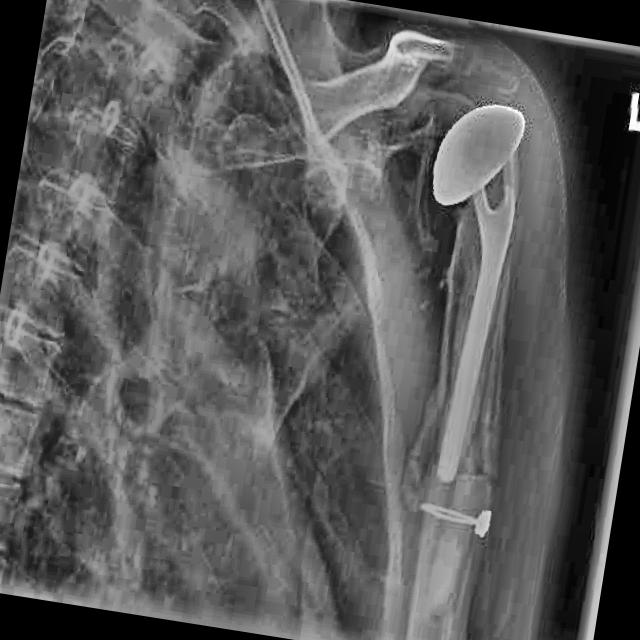shoulder fracture: (456, 432, 520, 500)
